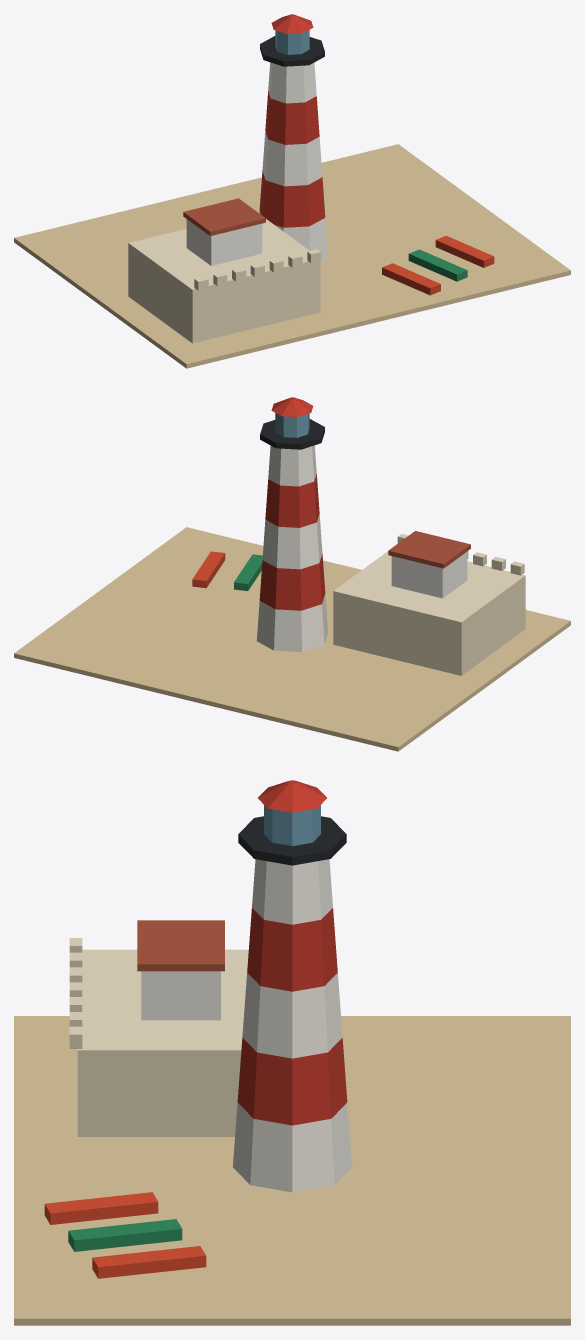
Rendered from lighthouse.glb.
3 views of the same model, one above another, from view 1: azimuth 30°, elevation 25°; view 2: azimuth 150°, elevation 25°; view 3: azimuth 270°, elevation 25° (orthographic). The views are drawn at different scales.
Parts seen in each view (by area): view 1: lighthouse_sand, lighthouse_cream, lighthouse_white, lighthouse_stripe_red, lighthouse_roof_red, lighthouse_canoe_a, lighthouse_black, lighthouse_canoe_b, lighthouse_glass; view 2: lighthouse_sand, lighthouse_cream, lighthouse_white, lighthouse_stripe_red, lighthouse_roof_red, lighthouse_black, lighthouse_glass, lighthouse_canoe_a, lighthouse_canoe_b; view 3: lighthouse_sand, lighthouse_cream, lighthouse_white, lighthouse_stripe_red, lighthouse_canoe_a, lighthouse_roof_red, lighthouse_black, lighthouse_canoe_b, lighthouse_glass.
Part boxes in pixels (box(x1,y1,x2,y2)): lighthouse_sand: box(14, 144, 570, 368); lighthouse_cream: box(128, 219, 321, 343); lighthouse_white: box(186, 62, 328, 265); lighthouse_stripe_red: box(259, 14, 325, 227); lighthouse_roof_red: box(183, 198, 265, 235); lighthouse_canoe_a: box(382, 235, 494, 295); lighthouse_black: box(260, 36, 324, 66); lighthouse_canoe_b: box(408, 249, 467, 281); lighthouse_glass: box(275, 30, 309, 54); lighthouse_sand: box(14, 527, 570, 751); lighthouse_cream: box(333, 534, 525, 675); lighthouse_white: box(256, 445, 467, 652); lighthouse_stripe_red: box(259, 397, 325, 610); lighthouse_roof_red: box(388, 531, 470, 568); lighthouse_black: box(260, 419, 324, 449); lighthouse_glass: box(275, 413, 309, 437); lighthouse_canoe_a: box(192, 551, 225, 588); lighthouse_canoe_b: box(234, 554, 262, 590); lighthouse_sand: box(14, 1016, 570, 1325); lighthouse_cream: box(69, 938, 248, 1136); lighthouse_white: box(141, 859, 351, 1192); lighthouse_stripe_red: box(237, 780, 347, 1125); lighthouse_canoe_a: box(44, 1192, 206, 1278); lighthouse_roof_red: box(137, 920, 224, 971); lighthouse_black: box(238, 816, 346, 865); lighthouse_canoe_b: box(68, 1219, 182, 1251); lighthouse_glass: box(264, 805, 320, 845).
Size of the model in its own units: 90 by 54.4 by 70.
